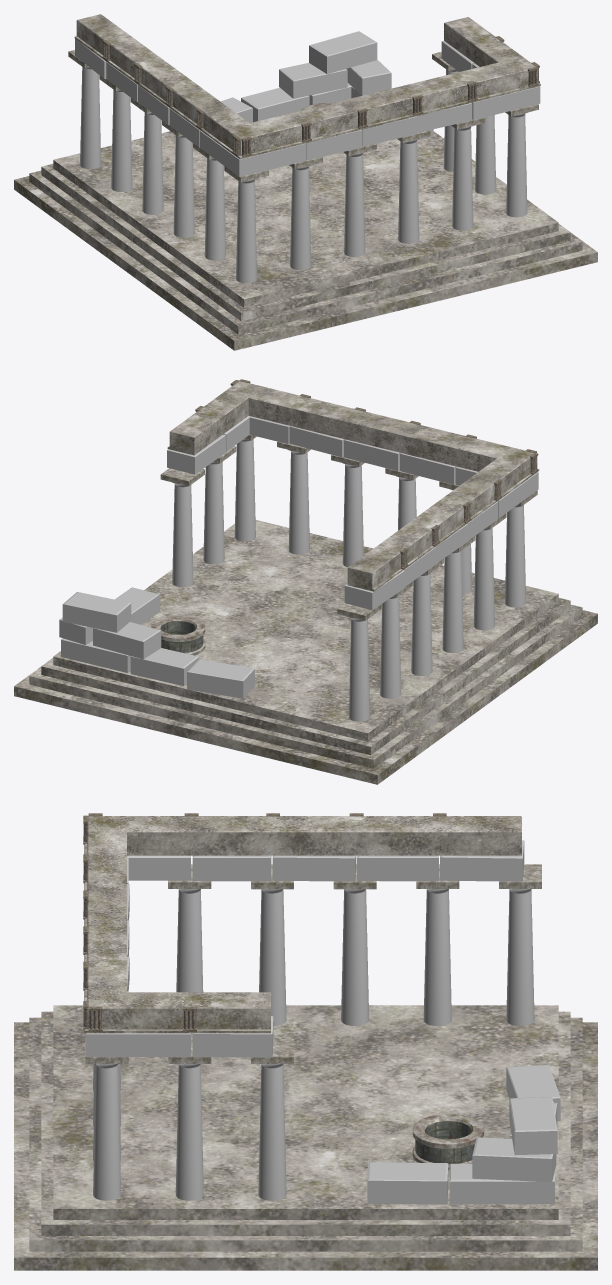
Rendered from Columns.fbx.
3 renders of one model, top to bottom at view 1: azimuth 30°, elevation 25°; view 2: azimuth 150°, elevation 25°; view 3: azimuth 270°, elevation 25°, orthographic. The views are drawn at different scales.
Parts seen in each view (by area): view 1: Stone_Temple_Large; view 2: Stone_Temple_Large; view 3: Stone_Temple_Large.
Part boxes in pixels (x1,y1,x2,y2): Stone_Temple_Large: (14,14,597,350); Stone_Temple_Large: (14,379,597,784); Stone_Temple_Large: (14,813,597,1270).
Size of the model in its own units: 23.17 by 11.14 by 24.33.
